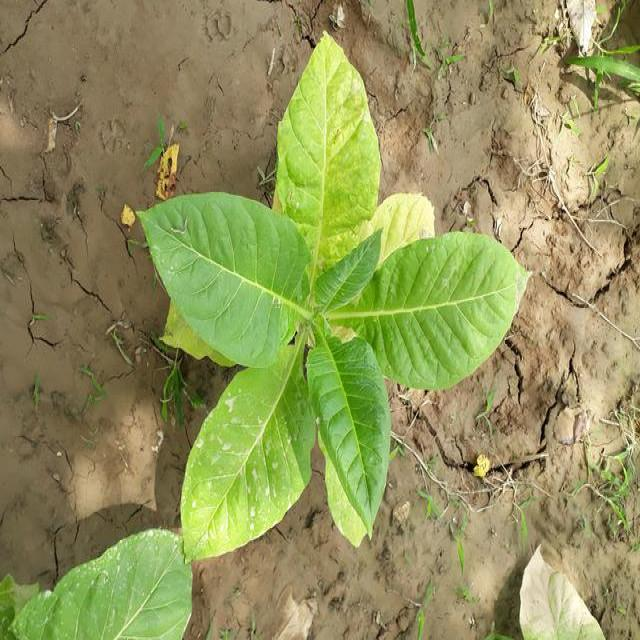crop: (146, 40, 514, 570), (0, 521, 196, 640)
